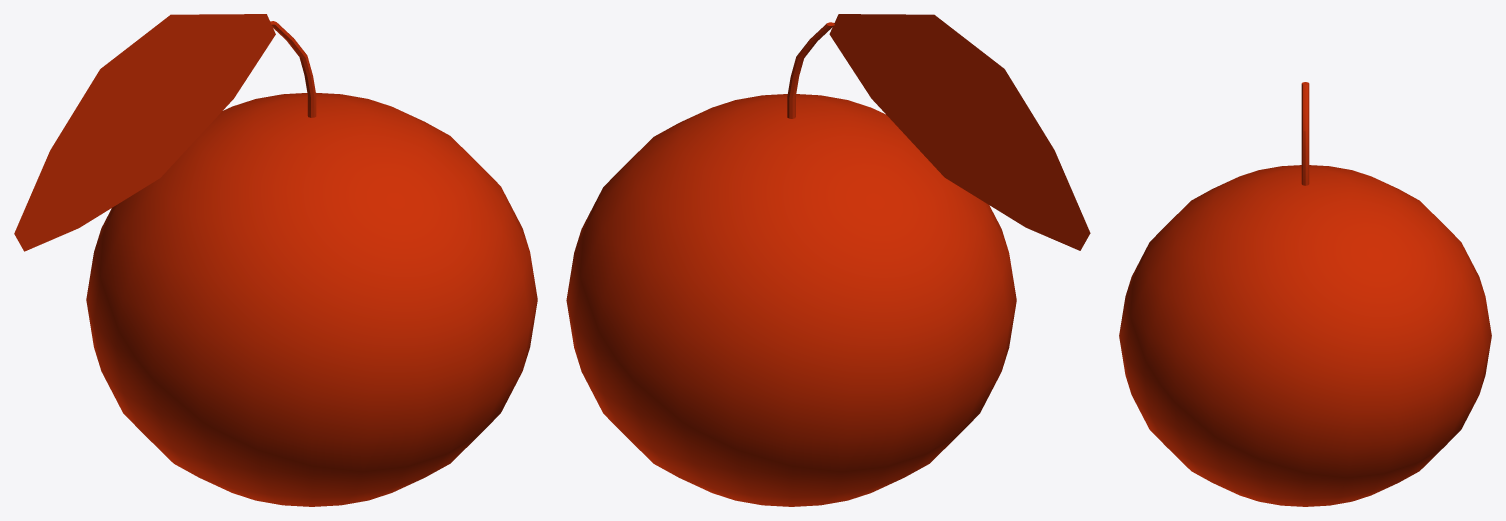
File: naranja.fbx
3 renders of one model, left to right at view 1: azimuth 30°, elevation 25°; view 2: azimuth 150°, elevation 25°; view 3: azimuth 270°, elevation 25°, orthographic. The views are drawn at different scales.
Parts seen in each view (by area): view 1: Mesh; view 2: Mesh; view 3: Mesh.
Boxes of the visible parts, <box> form: Mesh: <box>14,14,537,506</box>; Mesh: <box>566,14,1090,506</box>; Mesh: <box>1119,82,1491,506</box>.
Size of the model in its own units: 63.2 by 61.65 by 50.
